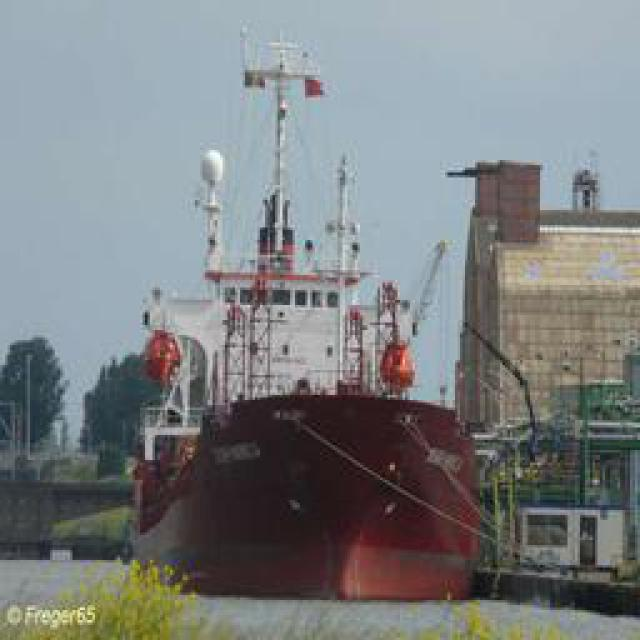Ship: (128, 11, 501, 610)
